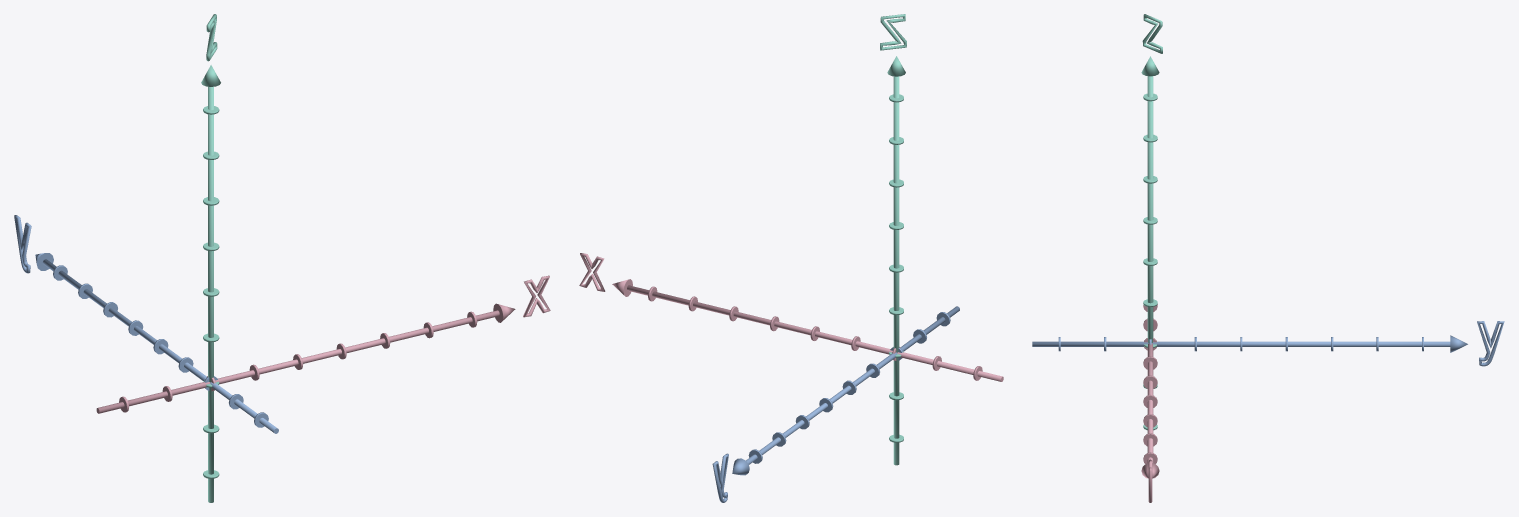
File: Axis.fbx
3 views of the same model, side by side, from view 1: azimuth 30°, elevation 25°; view 2: azimuth 150°, elevation 25°; view 3: azimuth 270°, elevation 25° (orthographic). The views are drawn at different scales.
Parts seen in each view (by area): view 1: x-axis, z-axis, y-axis, y-notches, x-notches, z-notches; view 2: z-axis, x-axis, y-axis, y-notches, x-notches, z-notches, z-label, x-label, y-label; view 3: y-axis, z-axis, x-notches, z-notches, x-axis, y-label.
Boxes of the visible parts, x1=… form: x-axis: x1=96, y1=310, x2=499, y2=413; z-axis: x1=208, y1=86, x2=213, y2=502; y-axis: x1=42, y1=259, x2=278, y2=433; y-notches: x1=53, y1=265, x2=268, y2=427; x-notches: x1=119, y1=311, x2=477, y2=412; z-notches: x1=203, y1=106, x2=219, y2=478; z-axis: x1=893, y1=76, x2=899, y2=465; x-axis: x1=627, y1=285, x2=1003, y2=381; y-axis: x1=746, y1=306, x2=959, y2=464; y-notches: x1=748, y1=312, x2=950, y2=463; x-notches: x1=648, y1=286, x2=982, y2=380; z-notches: x1=889, y1=94, x2=903, y2=442; z-label: x1=880, y1=14, x2=906, y2=50; x-label: x1=579, y1=253, x2=605, y2=291; y-label: x1=712, y1=453, x2=728, y2=502; y-axis: x1=1032, y1=341, x2=1450, y2=346; z-axis: x1=1147, y1=76, x2=1153, y2=342; x-notches: x1=1143, y1=304, x2=1157, y2=463; z-notches: x1=1143, y1=93, x2=1157, y2=430; x-axis: x1=1147, y1=343, x2=1153, y2=463; y-label: x1=1477, y1=321, x2=1504, y2=366.
Size of the model in its own units: 260 by 264 by 260.
